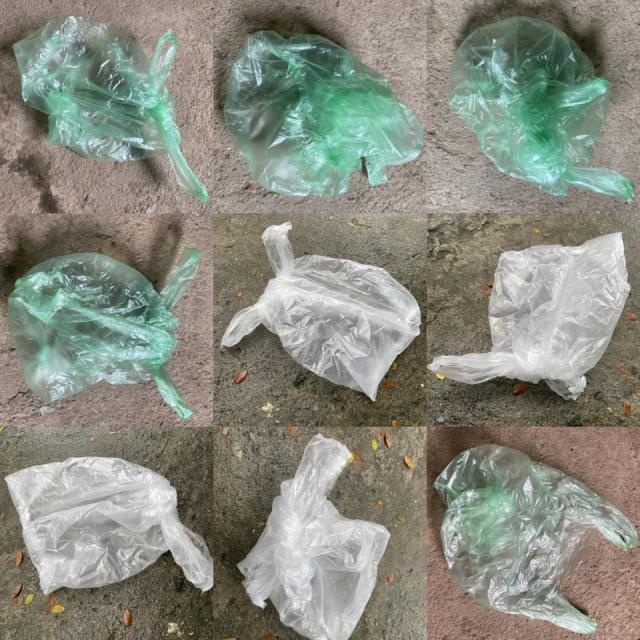Single-layer Plastic: (434, 445, 639, 633), (14, 16, 209, 202), (221, 223, 421, 400), (449, 18, 635, 201), (428, 232, 630, 398), (8, 249, 201, 420), (224, 31, 424, 196), (238, 434, 390, 640), (6, 458, 212, 594)
